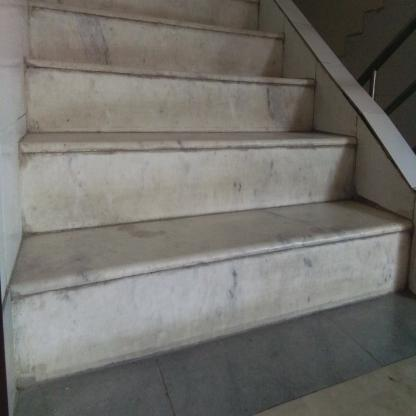stairs: (51, 32, 295, 383)
